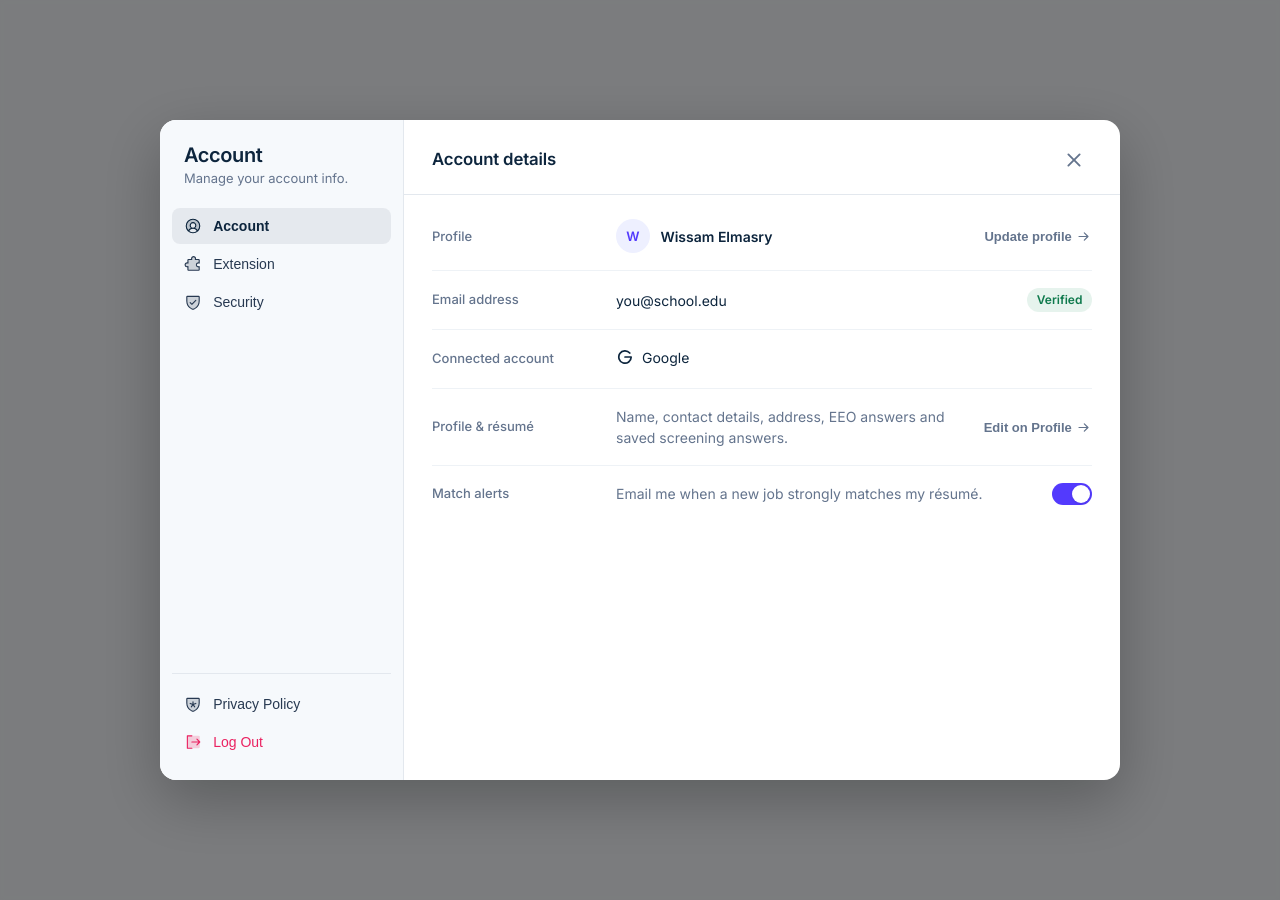
SettingsModal › offers Add to Chrome when the extension is not installed
Click the button "Extension": (282, 264) [172, 246, 391, 282]
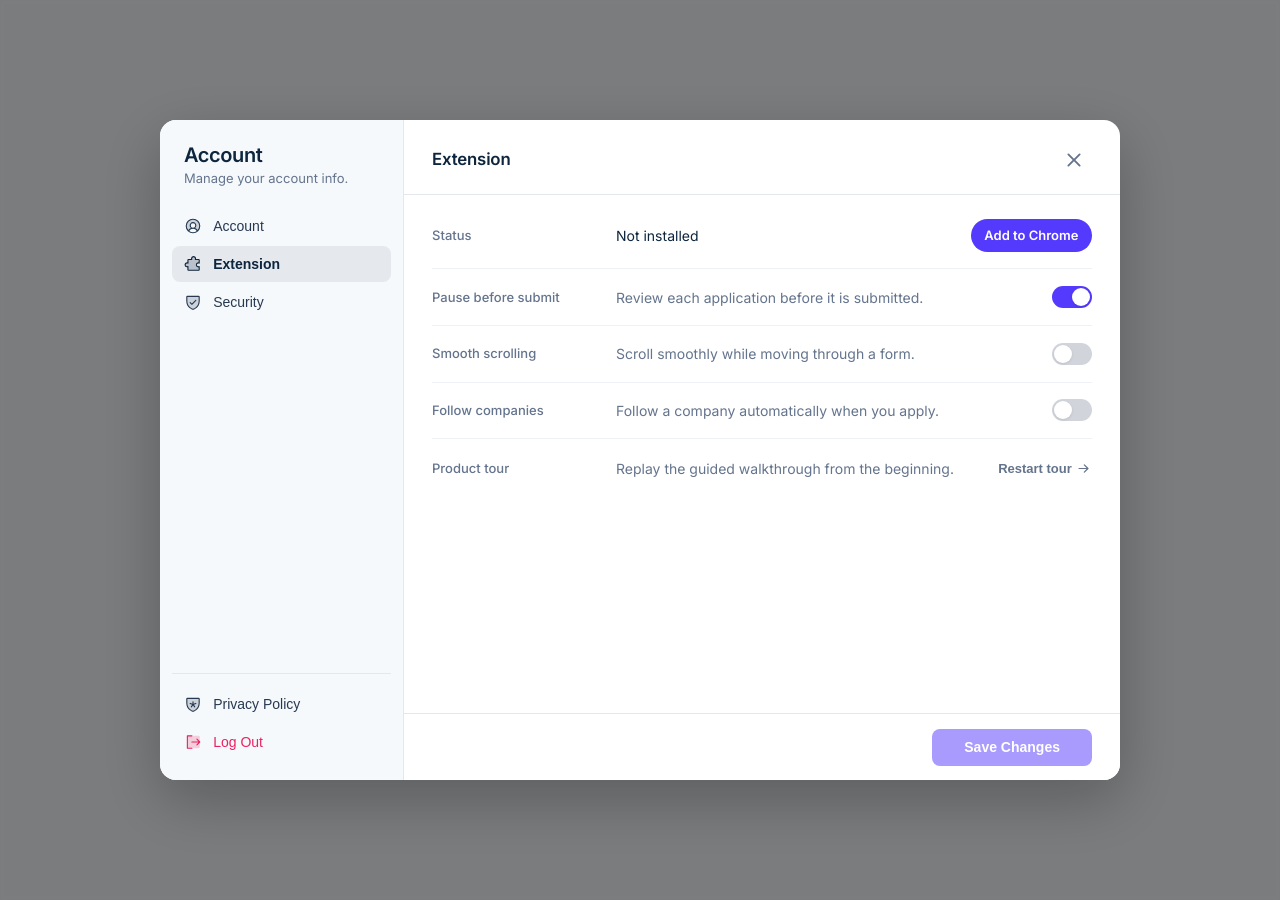
Check: the text "Not installed" is shown, box [616, 227, 698, 244]
